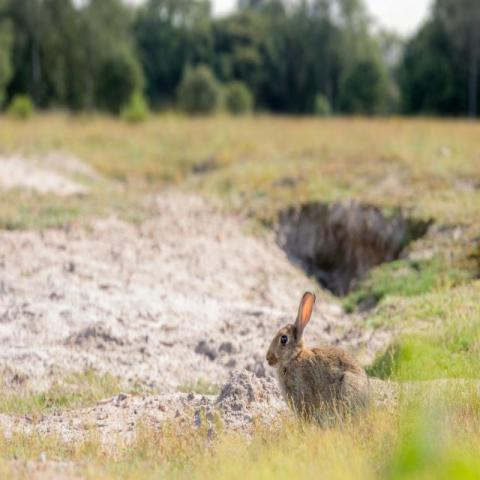small_animal: (263, 289, 373, 428)
